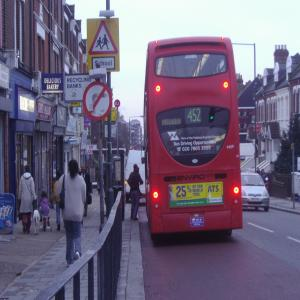Vehicle-registration-plate: (192, 218, 202, 228), (252, 198, 261, 201)
